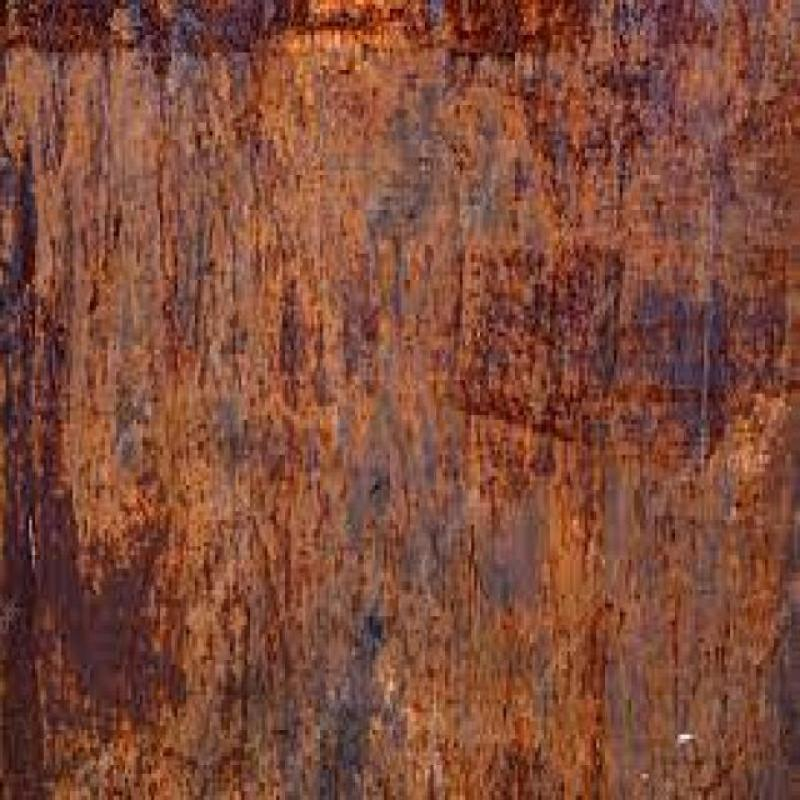corrosion: (72, 0, 739, 772)
